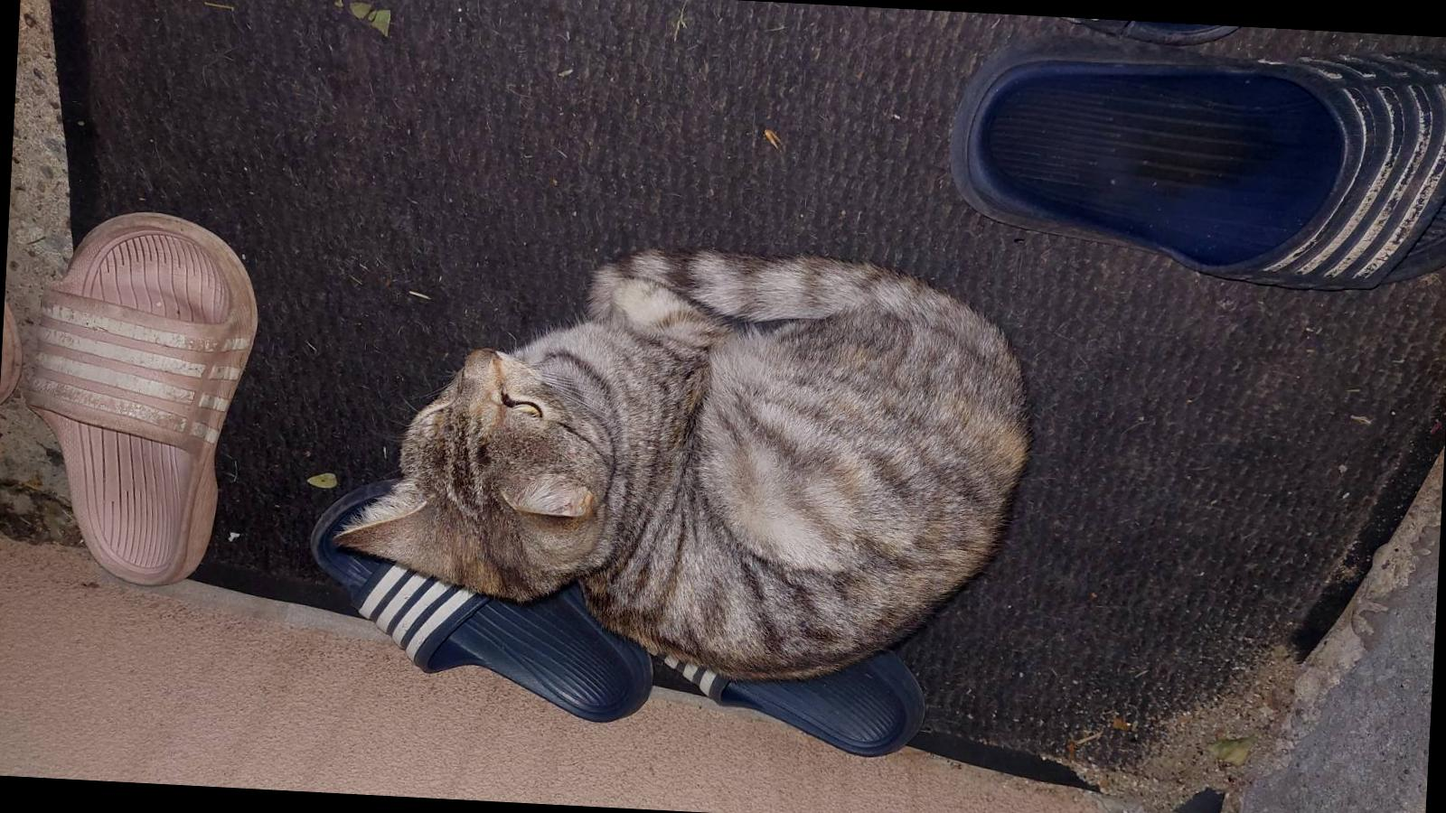macka: (327, 229, 1037, 695)
